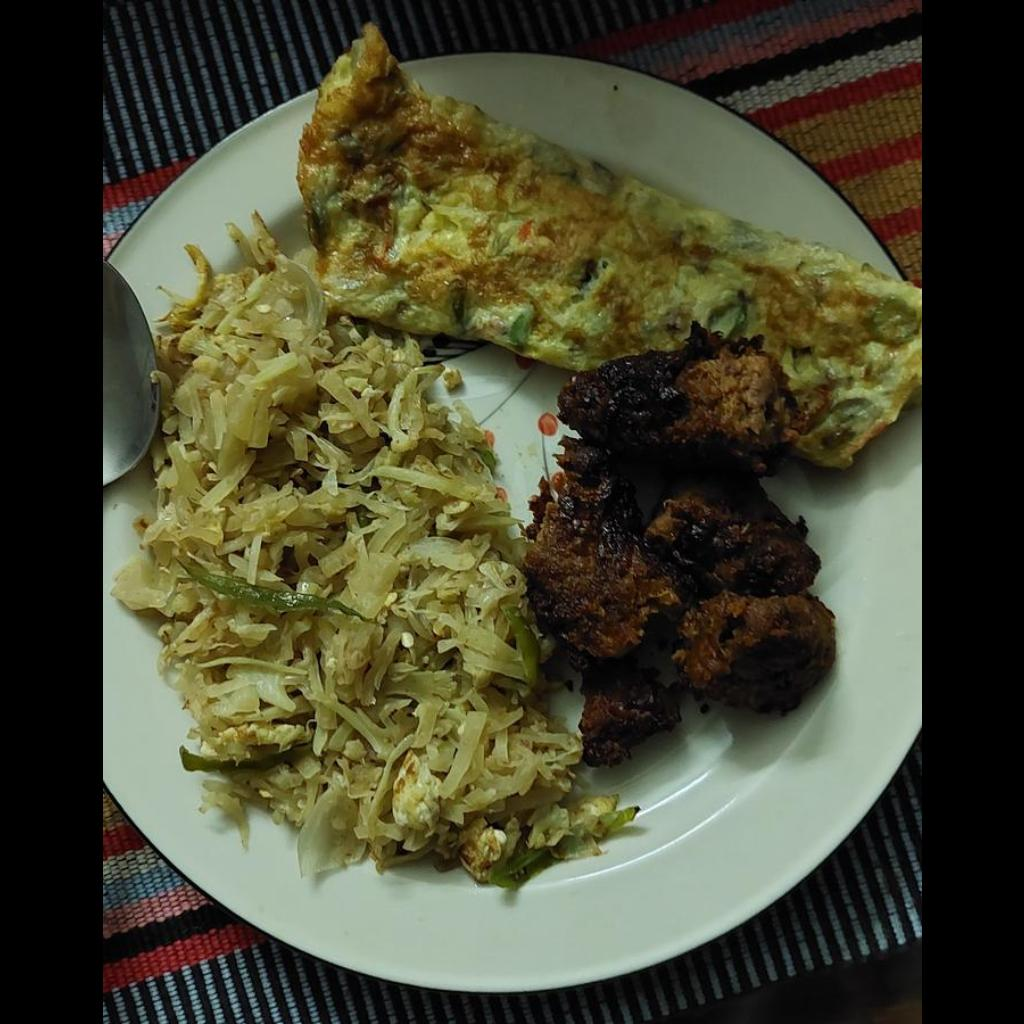egg-poached: (296, 31, 920, 462)
kabab: (537, 343, 846, 762)
vaji: (112, 252, 622, 889)
